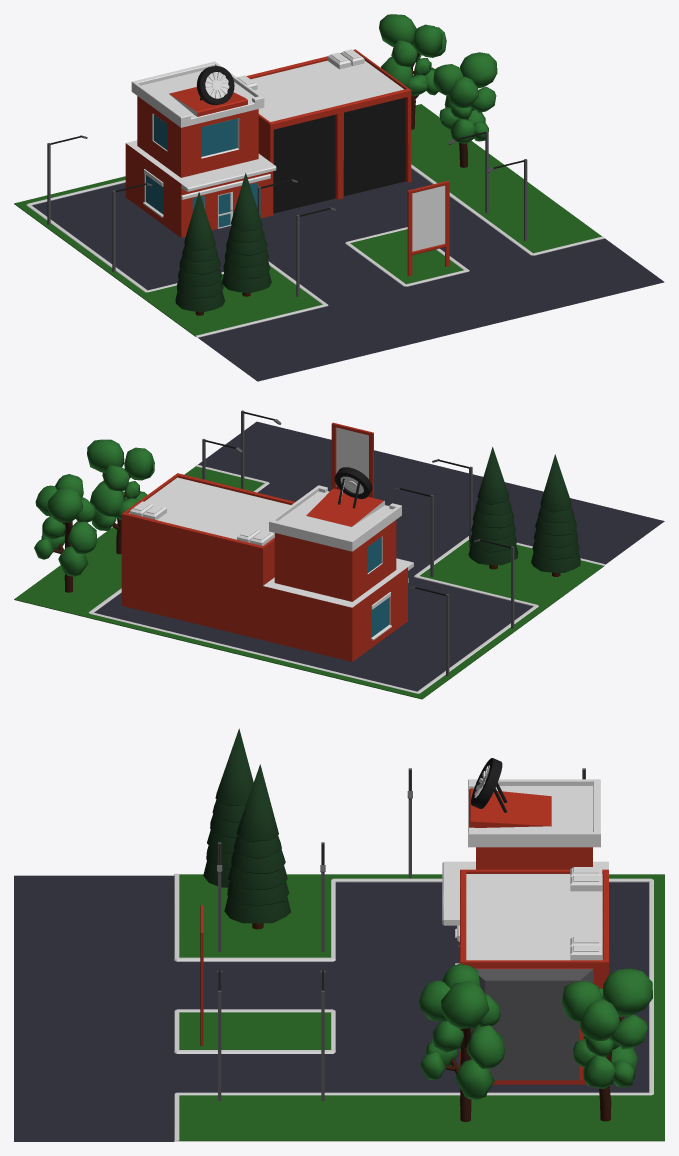
The model's file is shino.fbx.
The picture shows the model from 3 angles, top to bottom: view 1: azimuth 30°, elevation 25°; view 2: azimuth 150°, elevation 25°; view 3: azimuth 270°, elevation 25°; orthographic projection. The views are drawn at different scales.
Visible parts, largest first — view 1: Plane002; view 2: Plane002; view 3: Plane002.
Part boxes in pixels (box(x1,y1,x2,y2)): Plane002: box(14, 14, 664, 381); Plane002: box(14, 410, 664, 699); Plane002: box(14, 728, 664, 1141).
Size of the model in its own units: 910 by 938 by 327.
